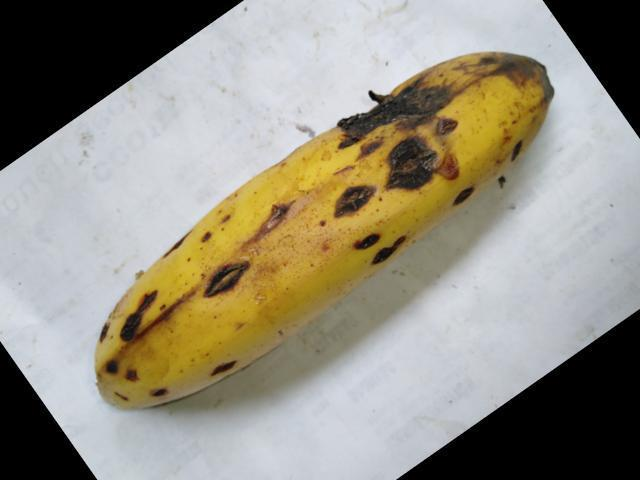rotten: (300, 32, 550, 127), (81, 275, 171, 374), (382, 122, 467, 200), (202, 261, 278, 312), (259, 171, 305, 239), (357, 221, 410, 280), (317, 177, 375, 229), (207, 341, 246, 387), (450, 172, 489, 217), (152, 224, 188, 271), (146, 379, 181, 412)
